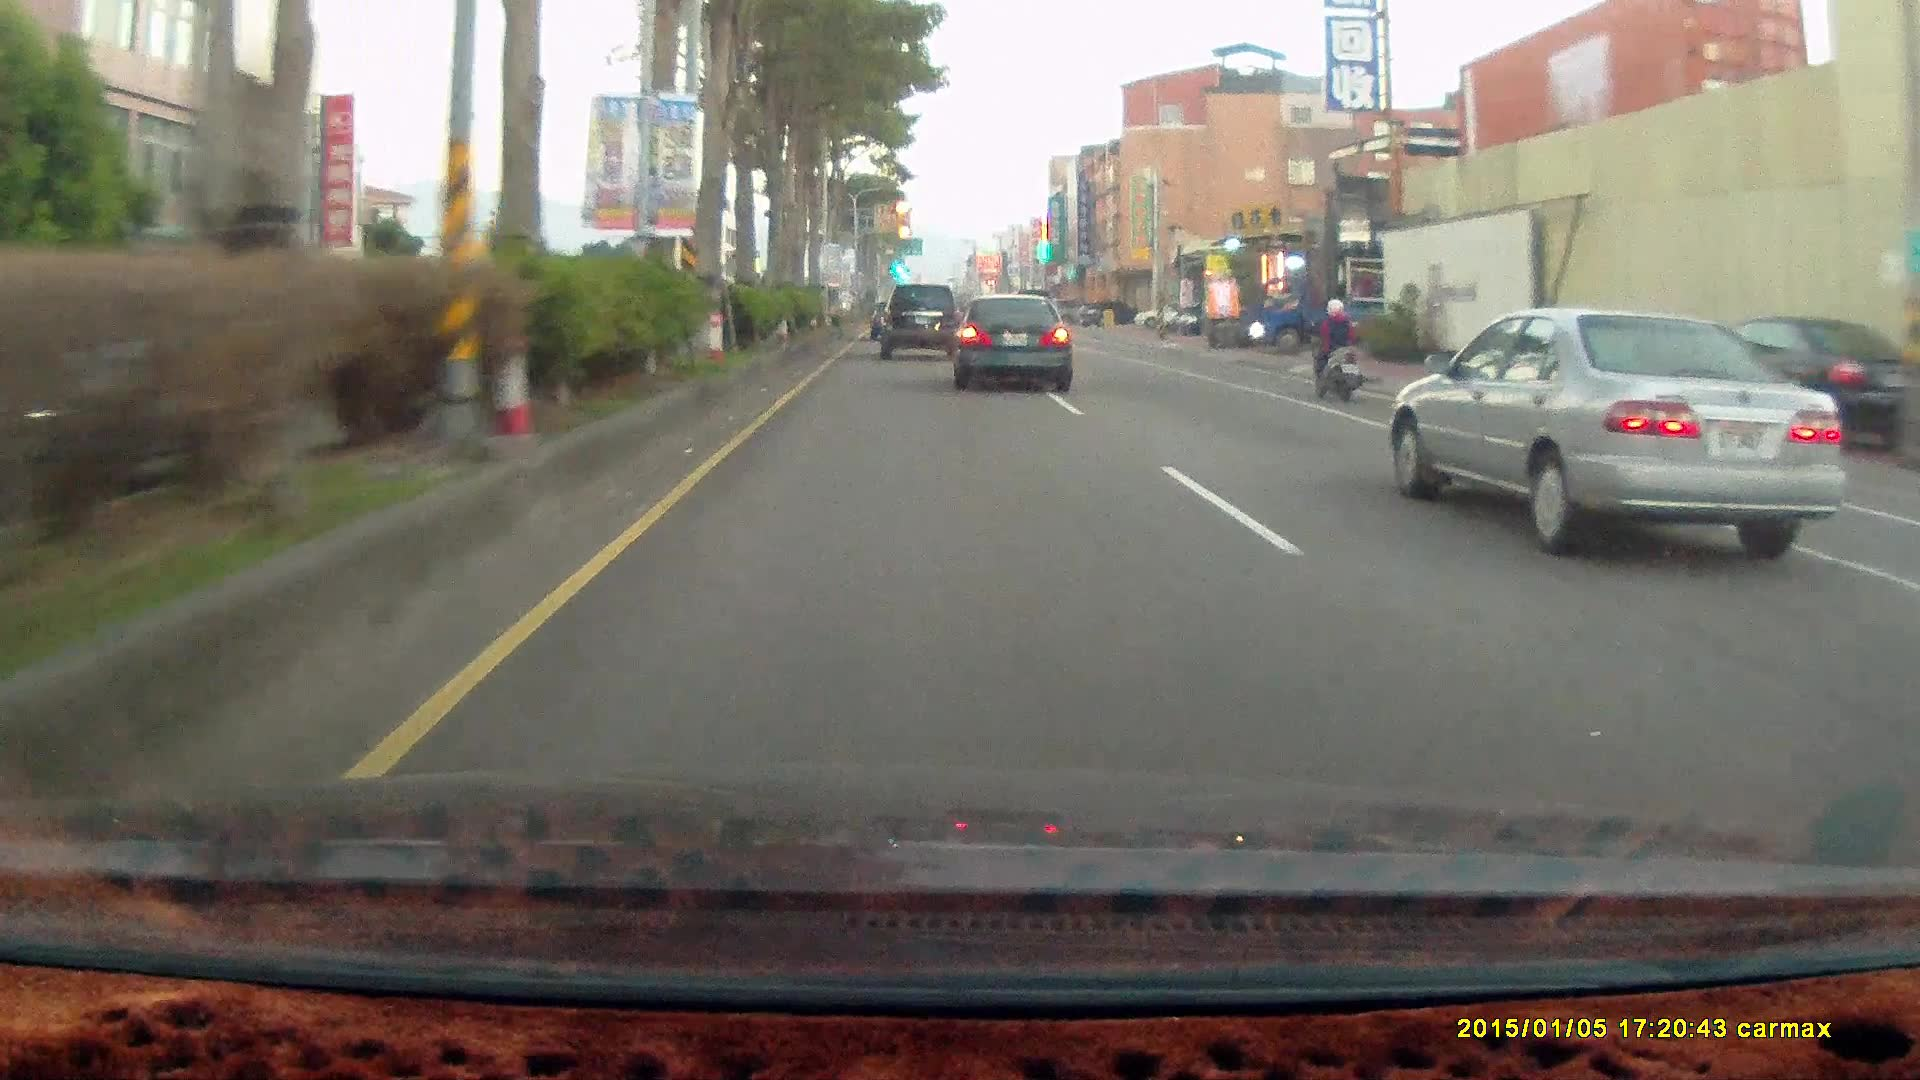rider: (1298, 287, 1375, 412), (1305, 291, 1363, 401)
vehicle: (1386, 302, 1847, 561), (1386, 300, 1851, 554), (1247, 272, 1407, 352), (949, 290, 1072, 391), (955, 292, 1079, 390), (1248, 267, 1393, 344), (880, 281, 961, 356), (878, 282, 961, 354), (1131, 298, 1192, 326), (1080, 299, 1141, 324)
